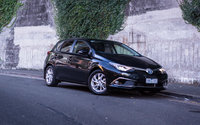car: (43, 37, 167, 95)
